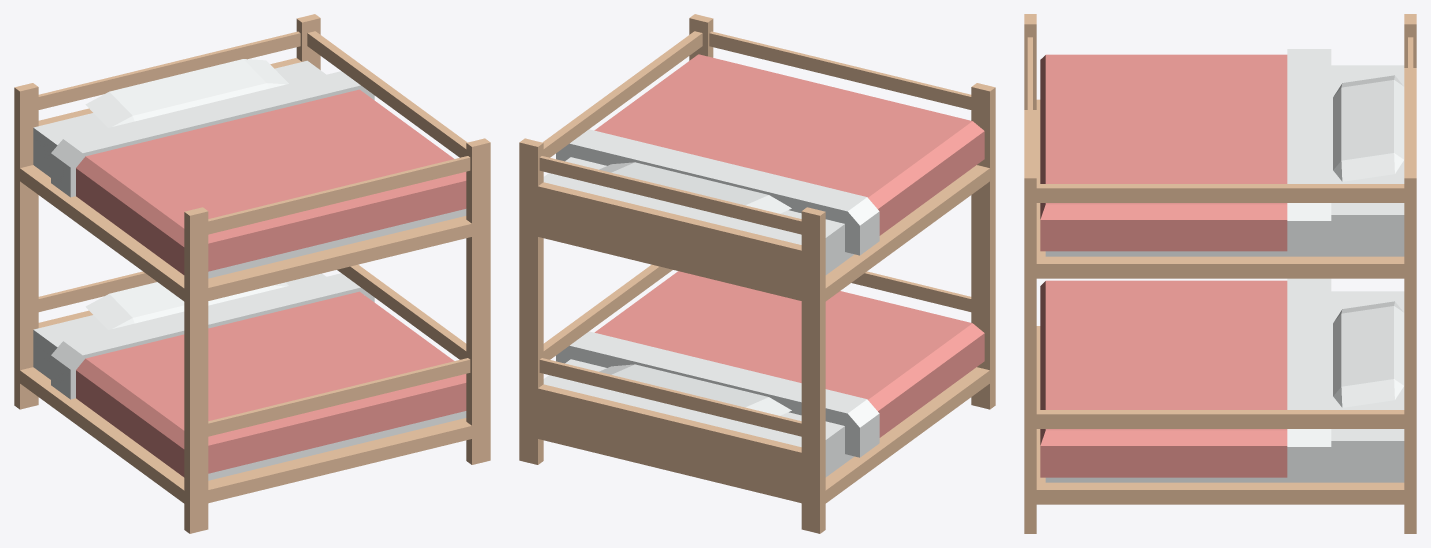
The model's file is kn-bed-bunk.glb.
The picture shows the model from 3 angles, left to right: view 1: azimuth 30°, elevation 25°; view 2: azimuth 150°, elevation 25°; view 3: azimuth 270°, elevation 25°; orthographic projection. The views are drawn at different scales.
Parts seen in each view (by area): view 1: bedBunk(Clone), coverBottom; view 2: bedBunk(Clone), coverBottom; view 3: bedBunk(Clone), coverBottom.
Boxes of the visible parts, <box> form: bedBunk(Clone): <box>14,14,490,533</box>; coverBottom: <box>76,89,466,477</box>; bedBunk(Clone): <box>519,14,995,533</box>; coverBottom: <box>594,54,984,437</box>; bedBunk(Clone): <box>1024,14,1416,533</box>; coverBottom: <box>1040,54,1287,477</box>.
Size of the model in its own units: 1 by 1 by 1.
